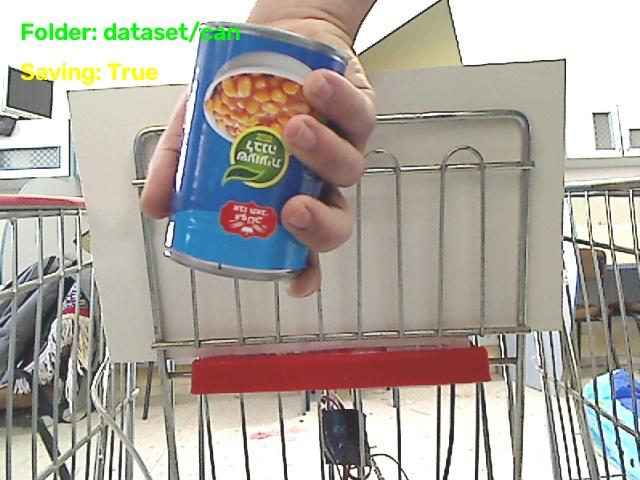can: (165, 22, 346, 279)
